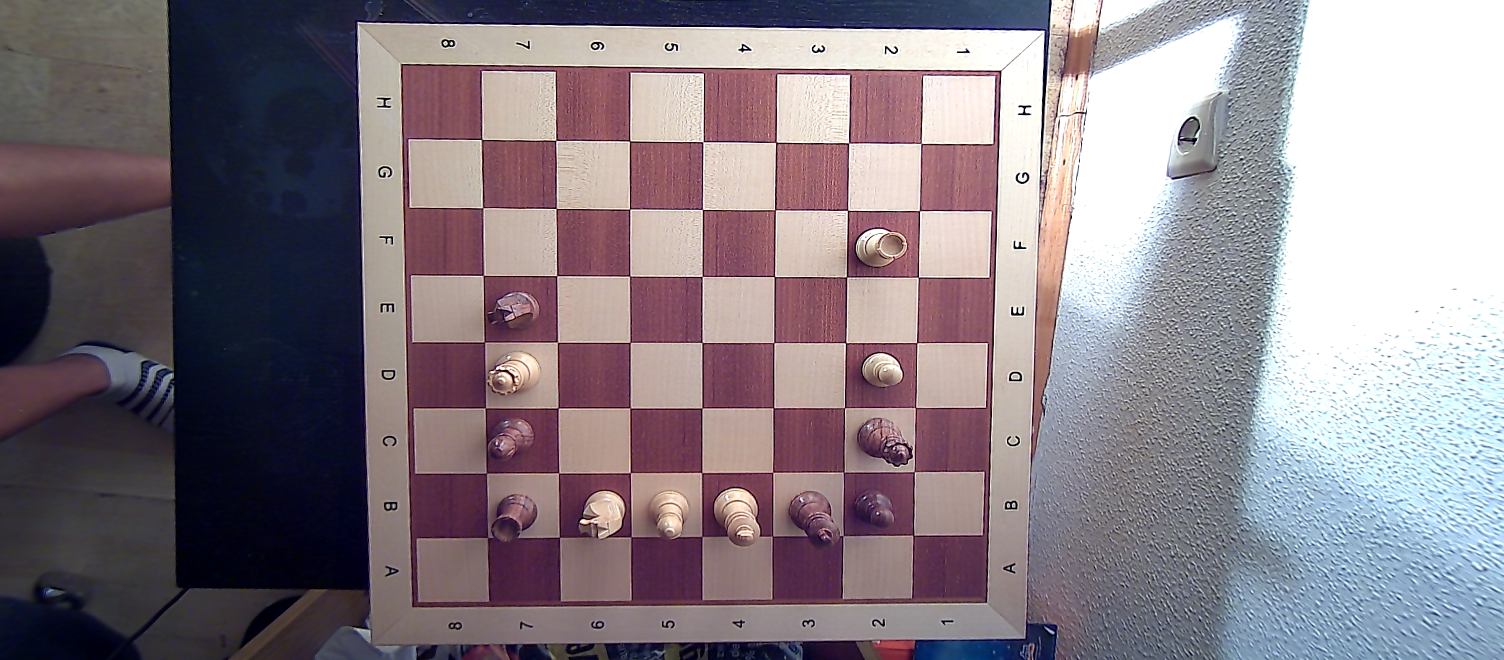black-bishop: (488, 418, 537, 464)
black-king: (784, 483, 846, 553)
black-knight: (485, 288, 545, 334)
black-pawn: (855, 489, 901, 534)
black-queen: (855, 413, 915, 469)
black-rook: (488, 491, 539, 545)
white-bishop: (643, 487, 693, 545)
white-king: (707, 483, 763, 546)
white-knight: (571, 487, 624, 539)
white-pawn: (856, 349, 904, 393)
white-queen: (488, 349, 542, 397)
white-rook: (850, 223, 911, 273)
